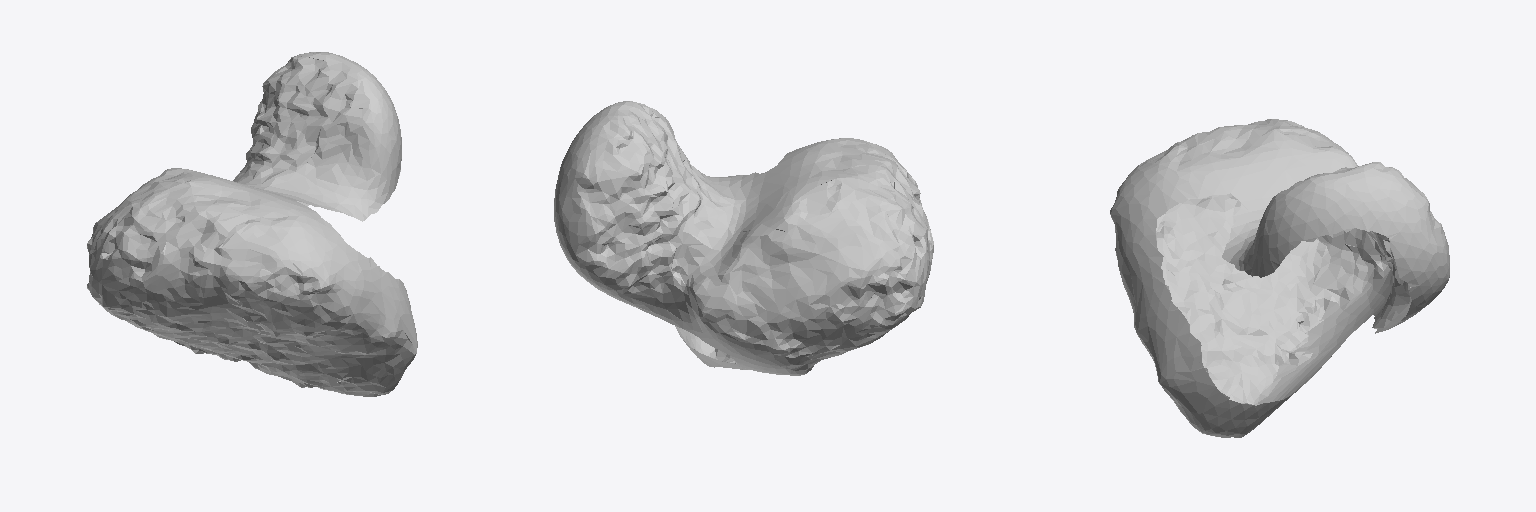
File: testmesh2.obj
The picture shows the model from 3 angles: view 1: azimuth 30°, elevation 25°; view 2: azimuth 150°, elevation 25°; view 3: azimuth 270°, elevation 25°; orthographic projection.
Size of the model in its own units: 0.0972 by 0.0844 by 0.091.